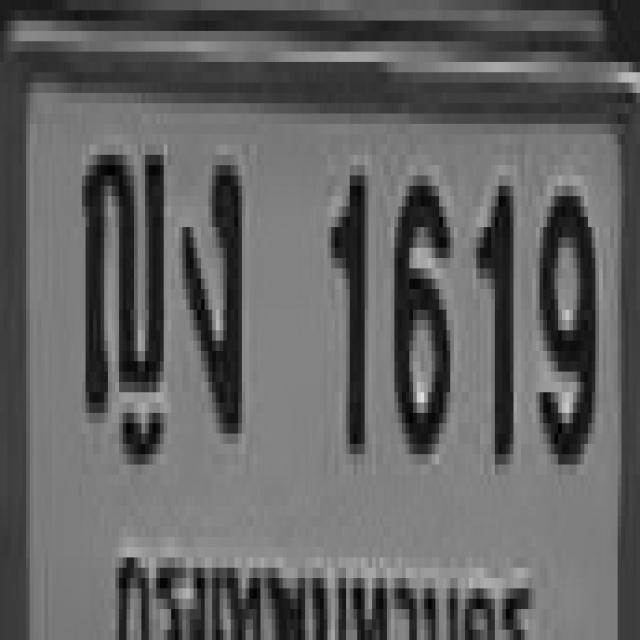1: (472, 170, 510, 449), (328, 160, 364, 439)
16NgorNgu: (179, 150, 238, 418)
22YorYing: (78, 134, 160, 413)
6: (391, 160, 446, 439)
9: (536, 176, 592, 454)
